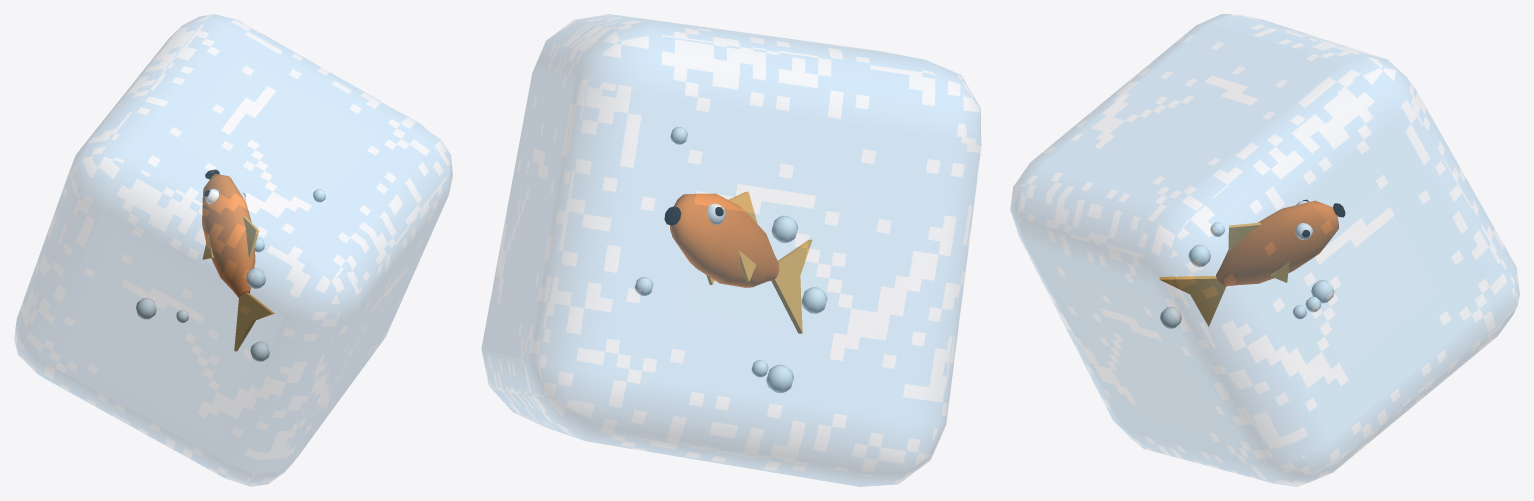
File: w_snowball_ice.glb
3 views of the same model, side by side, from view 1: azimuth 30°, elevation 25°; view 2: azimuth 150°, elevation 25°; view 3: azimuth 270°, elevation 25° (orthographic). The views are drawn at different scales.
Parts seen in each view (by area): view 1: icecube_wzAB, icefish_wzN; view 2: icecube_wzAB, icefish_wzN; view 3: icecube_wzAB, icefish_wzN.
Part boxes in pixels (box(x1,y1,x2,y2)): icecube_wzAB: box(14, 14, 452, 486); icefish_wzN: box(136, 169, 325, 361); icecube_wzAB: box(481, 14, 981, 486); icefish_wzN: box(634, 127, 827, 392); icecube_wzAB: box(1010, 14, 1519, 486); icefish_wzN: box(1159, 199, 1345, 328).
Size of the model in its own units: 0.1563 by 0.1571 by 0.1748.
Materials: 6 (1 with a texture image).
